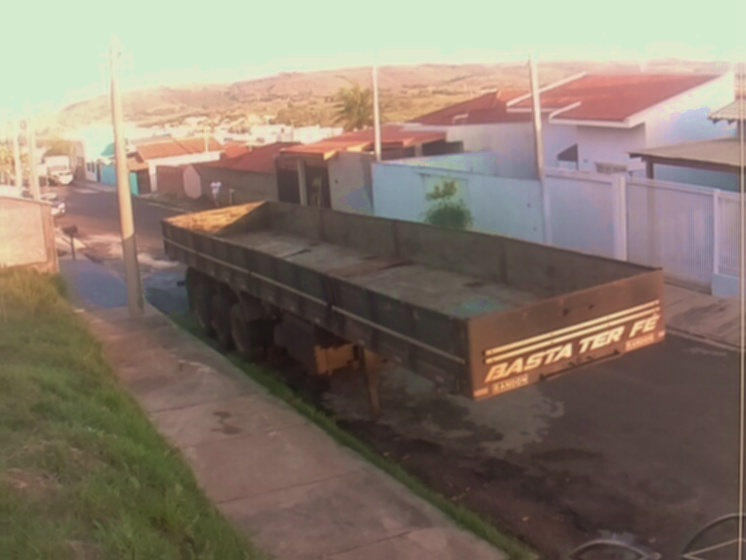person: (207, 178, 225, 206)
